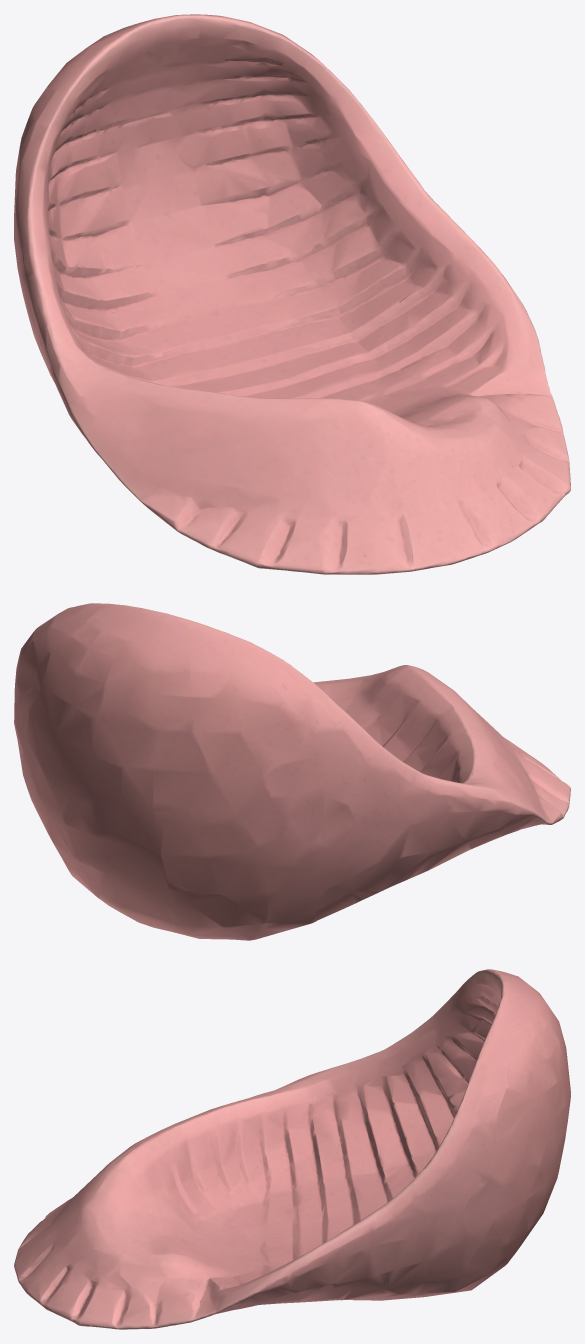
The model's file is Part_Palate.glb.
The picture shows the model from 3 angles, top to bottom: view 1: azimuth 30°, elevation 25°; view 2: azimuth 150°, elevation 25°; view 3: azimuth 270°, elevation 25°; orthographic projection. The views are drawn at different scales.
Bounding box in the file's own units: 1.49 × 1.08 × 1.9.
Materials: 1 (1 with a texture image).
